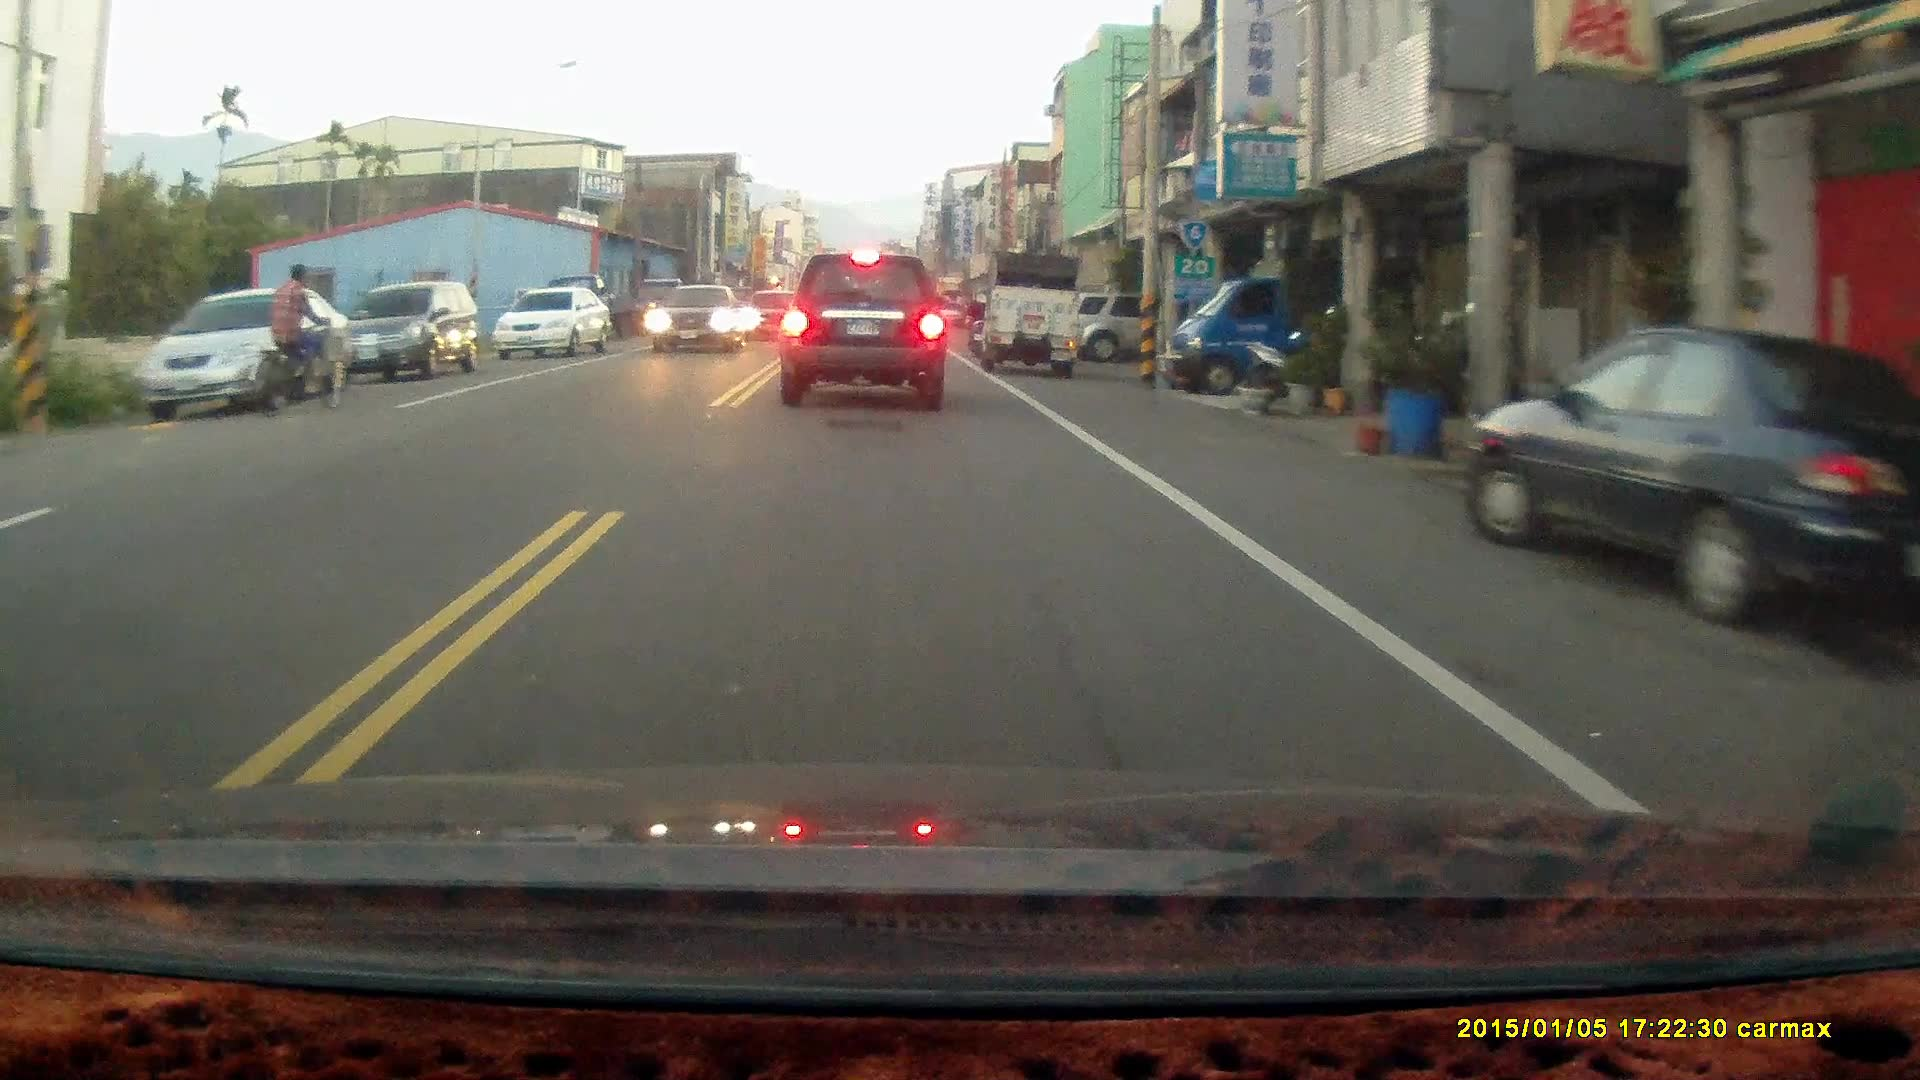rider: (245, 257, 347, 415), (963, 291, 989, 358)
vehicle: (1467, 325, 1920, 633), (133, 292, 349, 425), (1164, 245, 1341, 398), (780, 250, 949, 409), (331, 280, 488, 387), (982, 255, 1083, 378), (494, 288, 616, 363), (657, 285, 747, 354), (627, 279, 701, 344)
